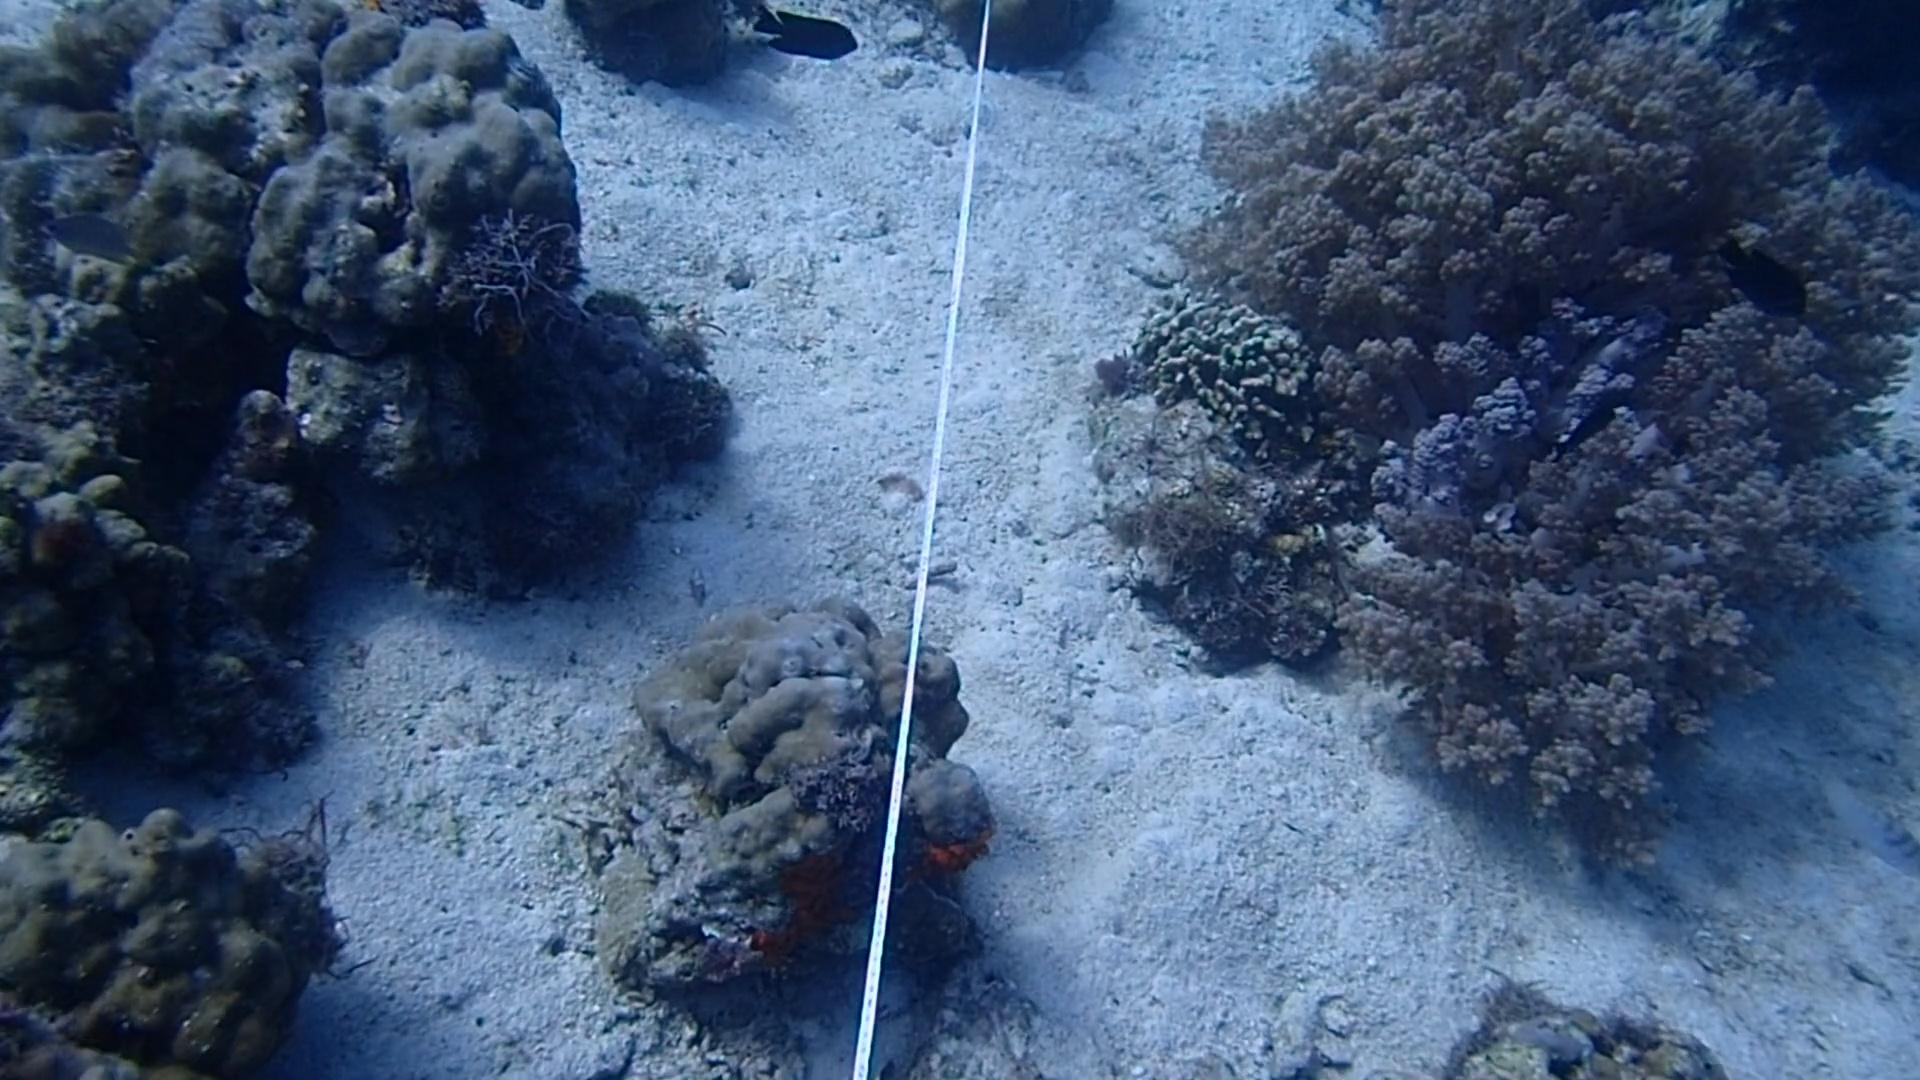Dark Fish: (1702, 227, 1811, 323), (738, 0, 865, 74), (1551, 390, 1630, 458)
Light Fish w Back Stripes: (1799, 749, 1920, 878)
